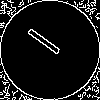I: (25, 25, 71, 63)
